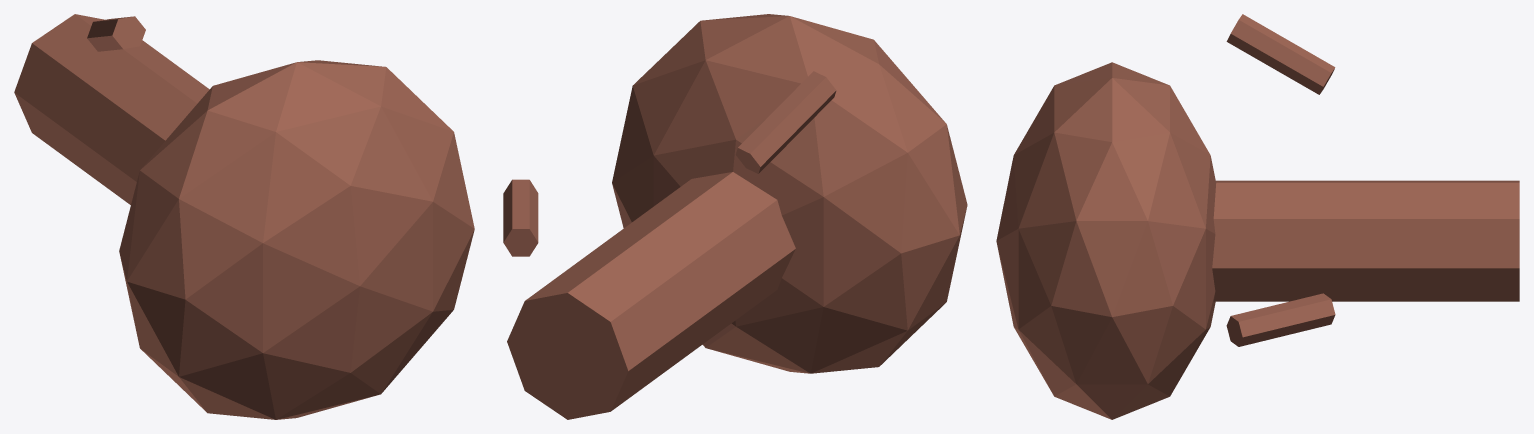
The model's file is baobab_lowpoly_opencode.glb.
The picture shows the model from 3 angles, left to right: view 1: azimuth 30°, elevation 25°; view 2: azimuth 150°, elevation 25°; view 3: azimuth 270°, elevation 25°; orthographic projection. The views are drawn at different scales.
Parts seen in each view (by area): view 1: geometry_0; view 2: geometry_0; view 3: geometry_0.
Boxes of the visible parts, box(x1,y1,x2,y2) form: geometry_0: box(14, 14, 474, 419); geometry_0: box(503, 14, 967, 419); geometry_0: box(996, 14, 1519, 419).
Bounding box in the file's own units: 3.81 × 3.53 × 4.88.
